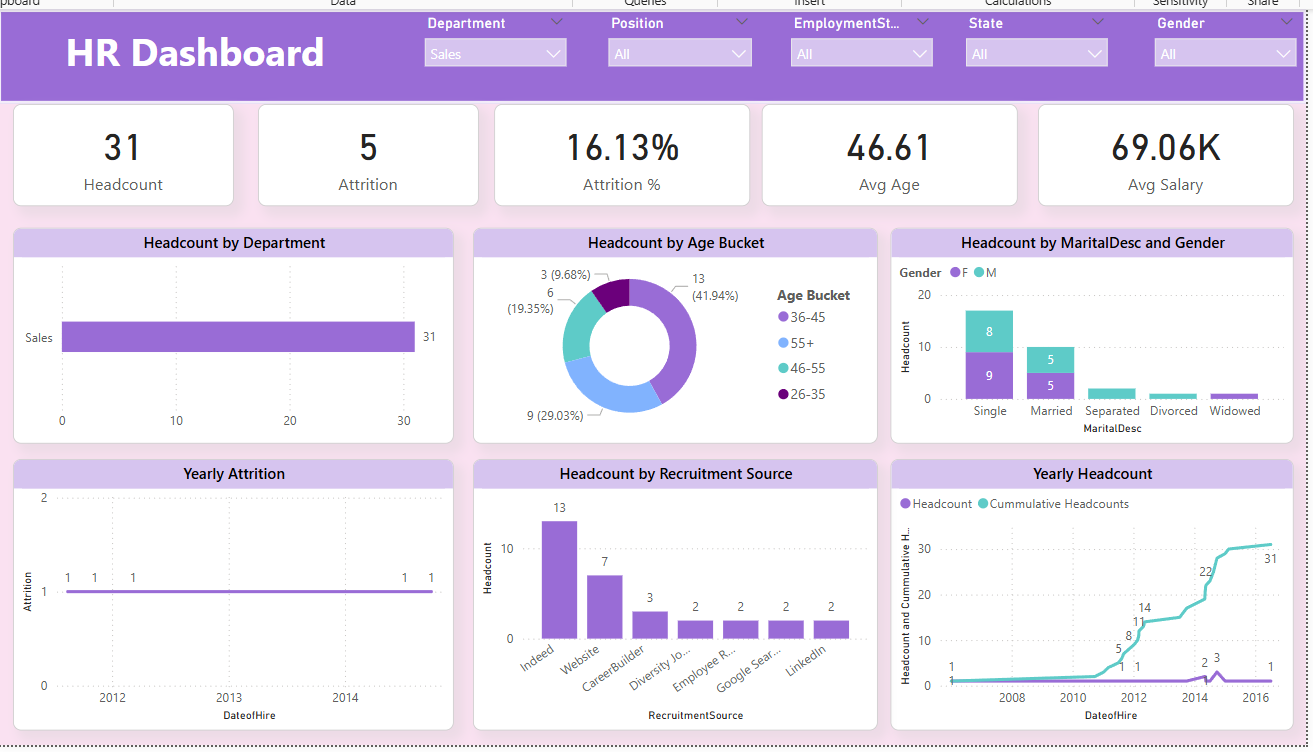

Layout of this report page (visuals, bound fields, positions):
{"tool":"powerbi","page":{"name":"Page 1","canvas":[1280,720],"ordinal":0},"visuals":[{"type":"shape","box":[0,0,1280,92.9],"z":0},{"type":"card","fields":{"Values":["Measure.Headcount"]},"box":[14.3,92.9,215.7,100],"z":1000},{"type":"card","fields":{"Values":["Measure.Attrition"]},"box":[254.3,92.9,215.7,100],"z":2000},{"type":"card","fields":{"Values":["Measure.Attrition %"]},"box":[485.7,92.9,250,100],"z":3000},{"type":"card","fields":{"Values":["Measure.Avg Salary"]},"box":[1017.1,92.9,250,100],"z":4000},{"type":"card","fields":{"Values":["Measure.Avg Age"]},"box":[747.1,92.9,250,100],"z":5000},{"type":"clusteredBarChart","fields":{"Y":["Measure.Headcount"],"Category":["HRDataset_v14.Department"]},"box":[14.3,214.3,431.4,211.4],"z":6000},{"type":"donutChart","fields":{"Category":["HRDataset_v14.Age Bucket"],"Y":["Measure.Headcount"]},"box":[464.3,214.3,395.7,211.4],"z":7000},{"type":"columnChart","fields":{"Category":["HRDataset_v14.MaritalDesc"],"Y":["Measure.Headcount"],"Series":["HRDataset_v14.Gender"]},"box":[872.9,214.3,394.3,211.4],"z":8000},{"type":"lineChart","title":" Yearly Headcount ","fields":{"Category":["HRDataset_v14.DateofHire"],"Y":["Measure.Headcount","Measure.Cummulative Headcounts"]},"box":[872.9,440,394.3,265.7],"z":9000},{"type":"lineChart","title":"Yearly Attrition ","fields":{"Y":["Measure.Attrition"],"Category":["HRDataset_v14.DateofHire"]},"box":[14.3,440,431.4,265.7],"z":10000},{"type":"columnChart","title":"Headcount by Recruitment Source","fields":{"Y":["Measure.Headcount"],"Category":["HRDataset_v14.RecruitmentSource"]},"box":[464.3,440,395.7,265.7],"z":11000},{"type":"slicer","fields":{"Values":["HRDataset_v14.Department"]},"box":[407.1,0,158.6,71.4],"z":12000},{"type":"slicer","fields":{"Values":["HRDataset_v14.Position"]},"box":[587.1,0,160,71.4],"z":13000},{"type":"slicer","fields":{"Values":["HRDataset_v14.EmploymentStatus"]},"box":[765.7,0,158.6,71.4],"z":14000},{"type":"slicer","fields":{"Values":["HRDataset_v14.State"]},"box":[937.1,0,158.6,71.4],"z":15000},{"type":"slicer","fields":{"Values":["HRDataset_v14.Gender"]},"box":[1121.4,0,158.6,71.4],"z":16000},{"type":"textbox","box":[61.4,11.4,335.7,60],"z":17000}]}

Visuals, with their boxes on the page's 1280x720 design canvas (x1, y1, x2, y2). These are canvas units, not pixel positions in the 1313x752 screenshot, which may show the page scaled, cropped or inside an application window:
shape: 0, 0, 1280, 93
card - Measure.Headcount: 14, 93, 230, 193
card - Measure.Attrition: 254, 93, 470, 193
card - Measure.Attrition %: 486, 93, 736, 193
card - Measure.Avg Salary: 1017, 93, 1267, 193
card - Measure.Avg Age: 747, 93, 997, 193
clusteredBarChart - Measure.Headcount x HRDataset_v14.Department: 14, 214, 446, 426
donutChart - HRDataset_v14.Age Bucket x Measure.Headcount: 464, 214, 860, 426
columnChart - HRDataset_v14.MaritalDesc x Measure.Headcount: 873, 214, 1267, 426
" Yearly Headcount " lineChart: 873, 440, 1267, 706
"Yearly Attrition " lineChart: 14, 440, 446, 706
"Headcount by Recruitment Source" columnChart: 464, 440, 860, 706
slicer - HRDataset_v14.Department: 407, 0, 566, 71
slicer - HRDataset_v14.Position: 587, 0, 747, 71
slicer - HRDataset_v14.EmploymentStatus: 766, 0, 924, 71
slicer - HRDataset_v14.State: 937, 0, 1096, 71
slicer - HRDataset_v14.Gender: 1121, 0, 1280, 71
textbox: 61, 11, 397, 71
